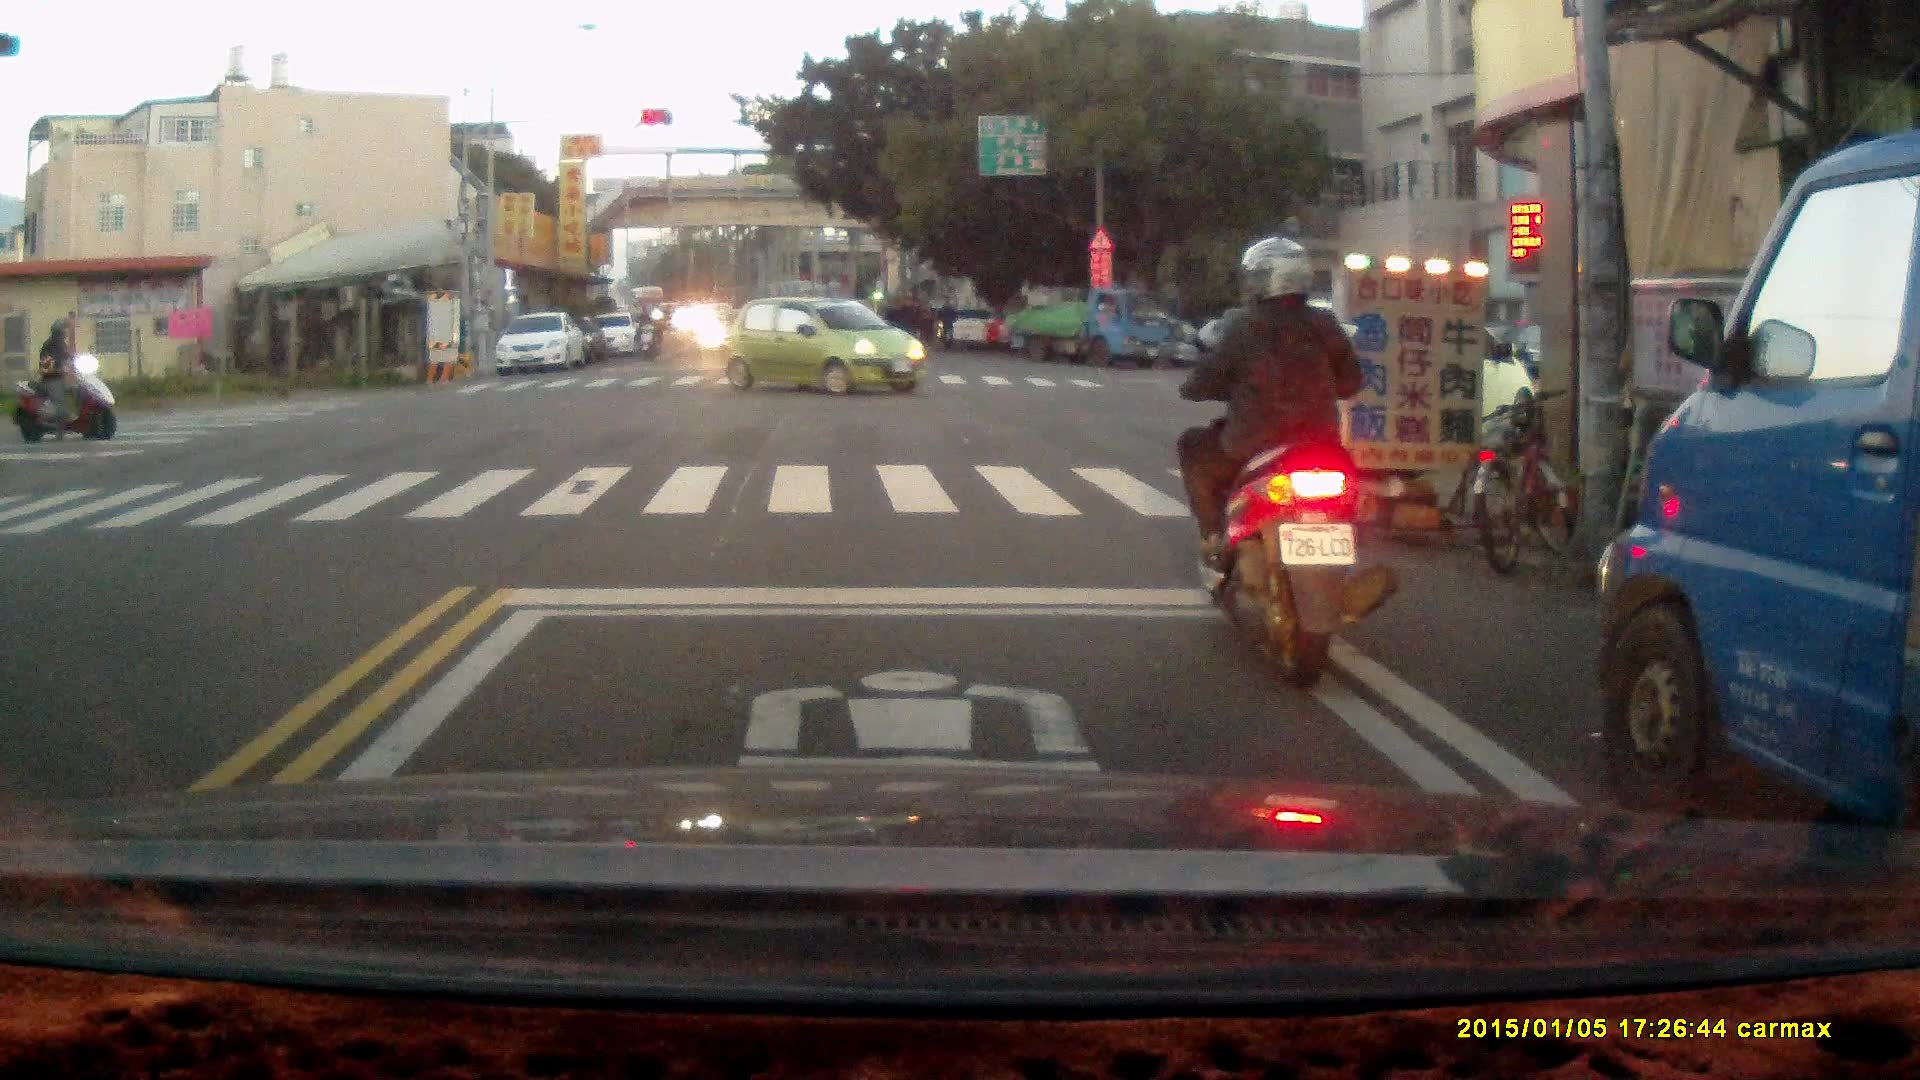rider: (1166, 230, 1411, 694), (10, 318, 119, 441), (634, 307, 661, 363)
vehicle: (1600, 132, 1920, 918), (1223, 295, 1530, 462), (725, 293, 922, 400), (1002, 284, 1177, 367), (494, 313, 587, 377), (592, 311, 642, 360)
